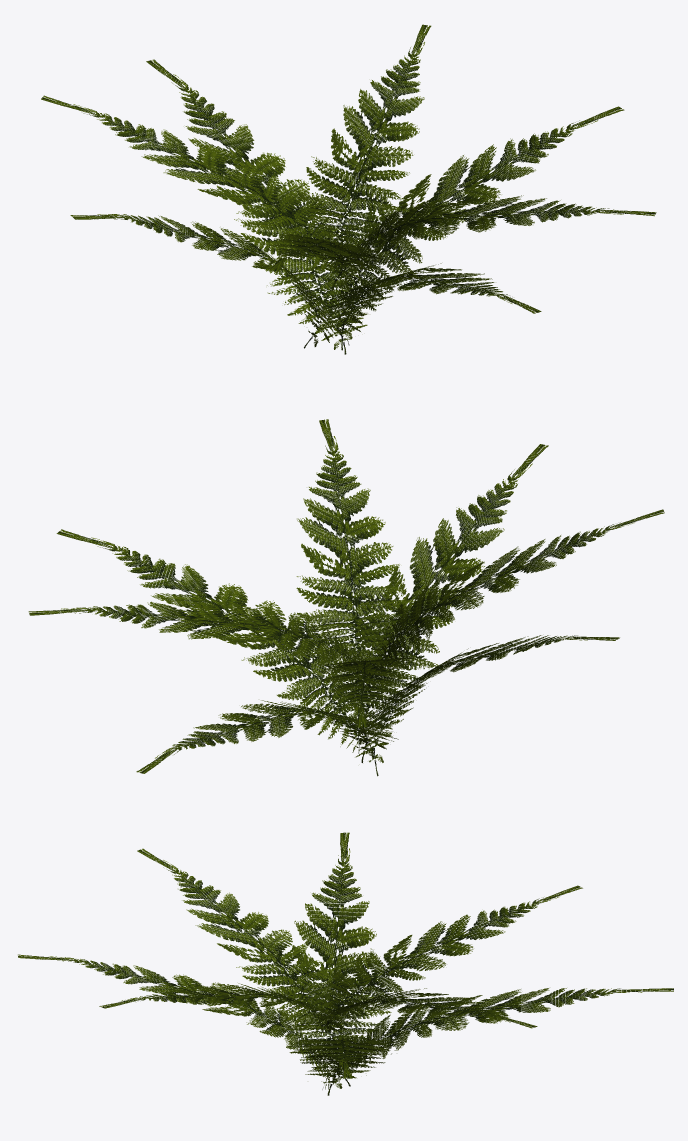
The model's file is fern_grass_3d_low_poly.glb.
3 views of the same model, one above another, from view 1: azimuth 30°, elevation 25°; view 2: azimuth 150°, elevation 25°; view 3: azimuth 270°, elevation 25° (orthographic). The views are drawn at different scales.
Visible parts, largest first — view 1: Object_2; view 2: Object_2; view 3: Object_2.
Part boxes in pixels (x1,y1,x2,y2): Object_2: (41, 24, 656, 354); Object_2: (28, 419, 664, 776); Object_2: (18, 832, 673, 1095).
Size of the model in its own units: 4.63 by 1.69 by 5.69.
Materials: 1 (1 with a texture image).
